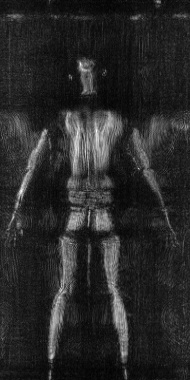gun: (123, 140, 149, 178)
